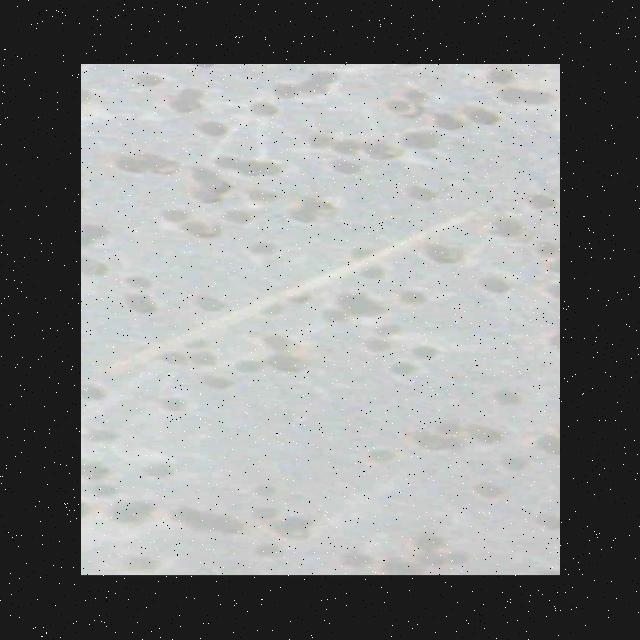Fibre: (80, 203, 488, 384)
